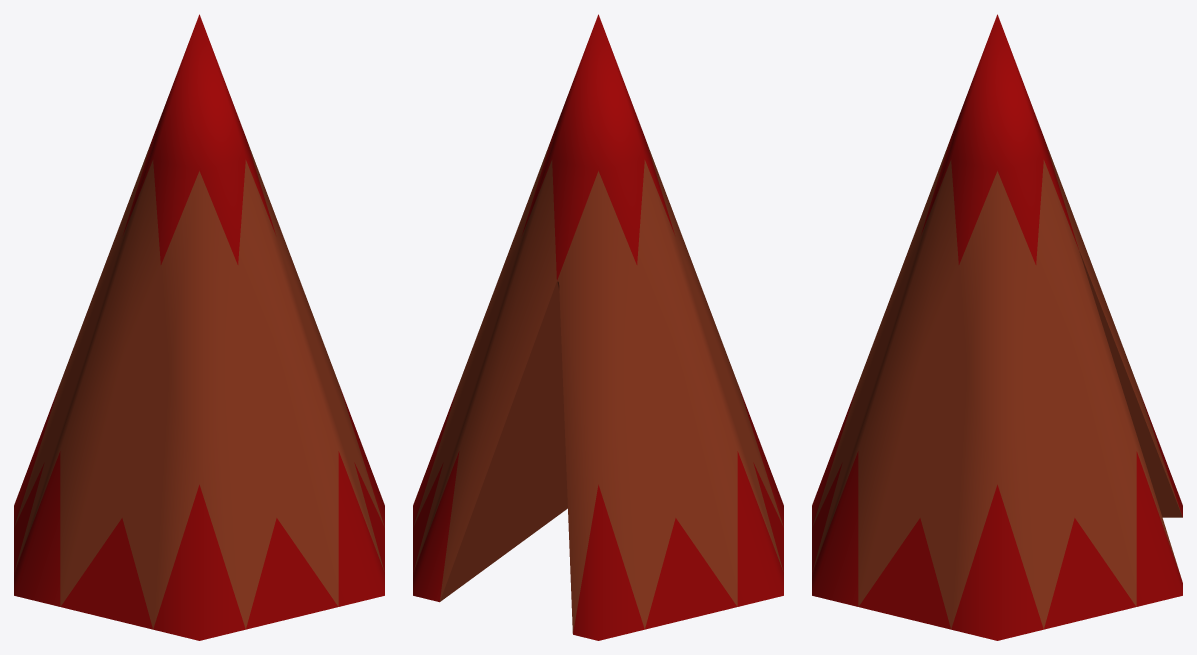
The model's file is Teepee.FBX.
The picture shows the model from 3 angles, left to right: view 1: azimuth 30°, elevation 25°; view 2: azimuth 150°, elevation 25°; view 3: azimuth 270°, elevation 25°; orthographic projection.
Visible parts, largest first — view 1: Cone001; view 2: Cone001; view 3: Cone001.
Part boxes in pixels (left/top/right/bottom): Cone001: left=14, top=14, right=384, bottom=640; Cone001: left=413, top=14, right=783, bottom=640; Cone001: left=812, top=14, right=1182, bottom=640.
Bounding box in the file's own units: 50.5 × 43.73 × 69.83.
